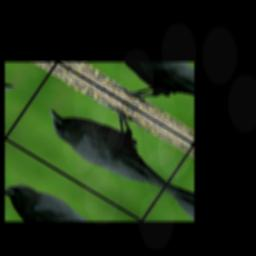Crow: (36, 77, 190, 201)
